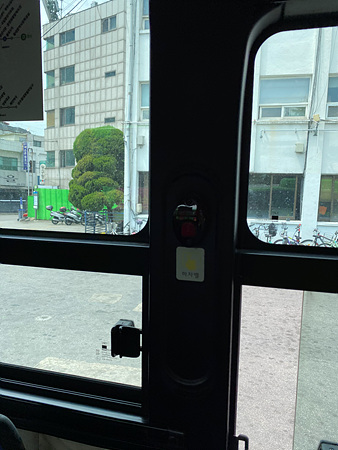bell: (170, 201, 210, 248)
